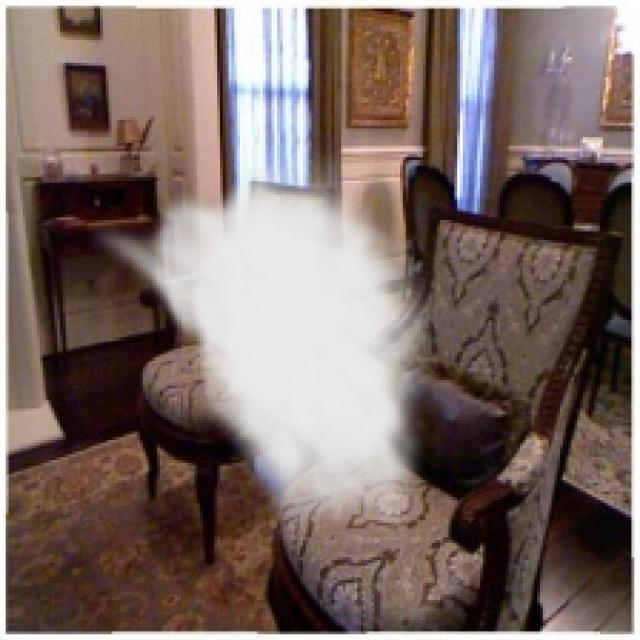Smoke: (86, 146, 440, 548)
